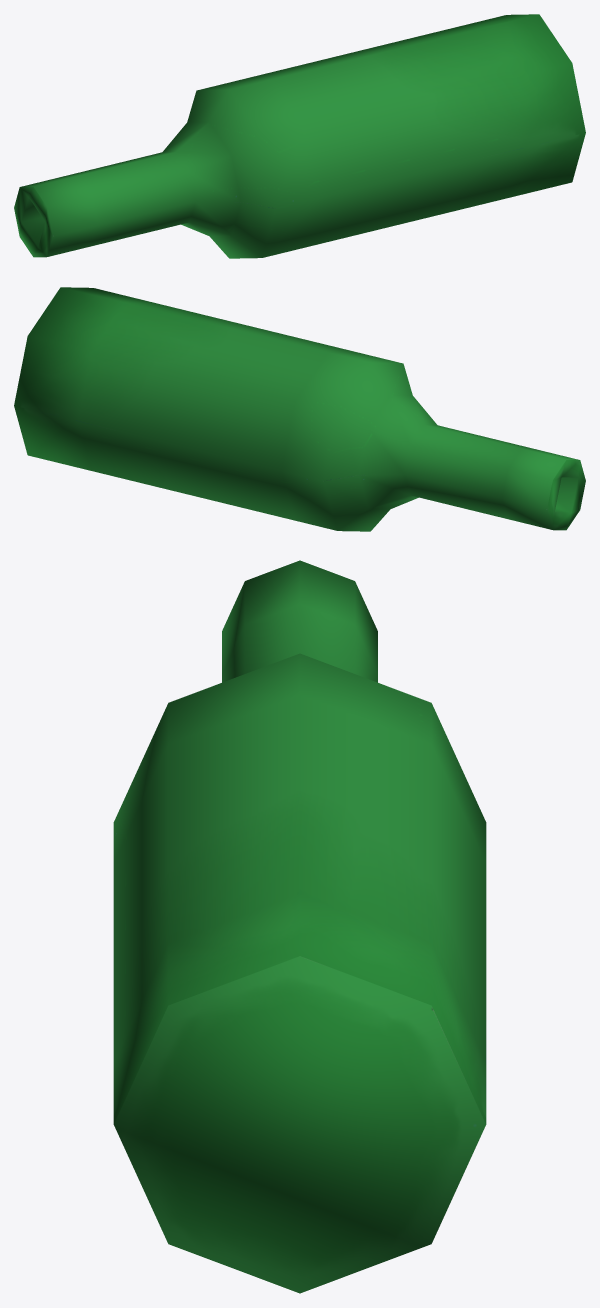
Rendered from Bottle02.fbx.
The picture shows the model from 3 angles, top to bottom: view 1: azimuth 30°, elevation 25°; view 2: azimuth 150°, elevation 25°; view 3: azimuth 270°, elevation 25°; orthographic projection. The views are drawn at different scales.
Parts seen in each view (by area): view 1: Bottle_02; view 2: Bottle_02; view 3: Bottle_02.
Part boxes in pixels (x1=…): Bottle_02: x1=14, y1=14, x2=585, y2=258; Bottle_02: x1=14, y1=287, x2=585, y2=531; Bottle_02: x1=113, y1=560, x2=486, y2=1293.
Size of the model in its own units: 0.2591 by 0.0826 by 0.0826.
1 material, 1 textured.
